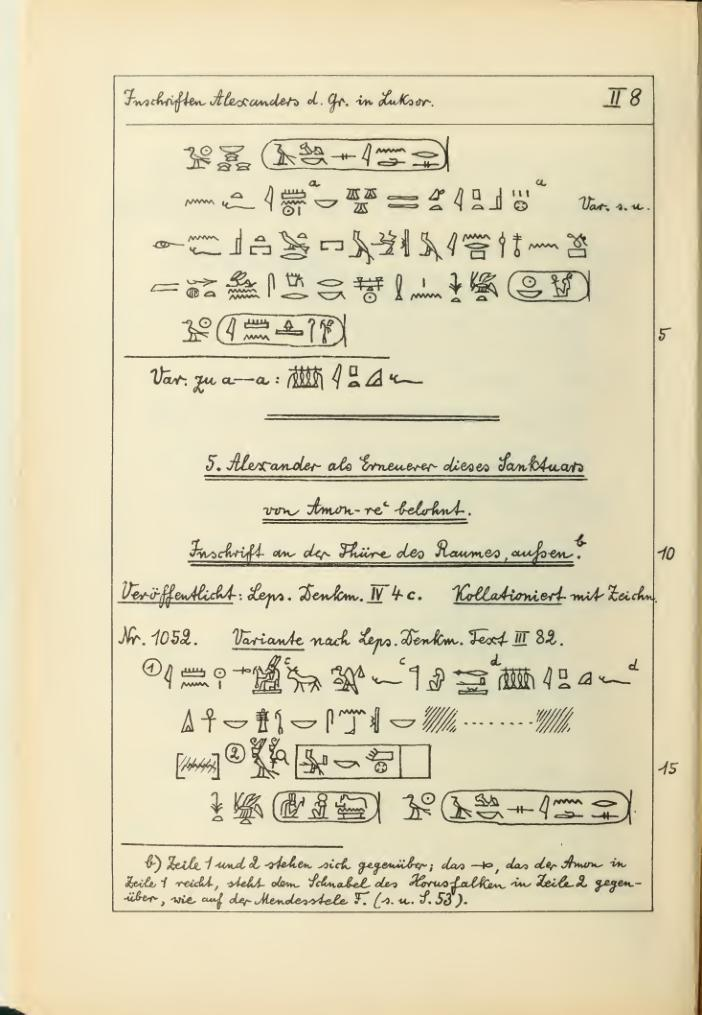circle: (201, 304, 403, 397), (246, 128, 491, 198), (432, 783, 650, 839), (488, 253, 613, 320), (259, 785, 406, 832)
